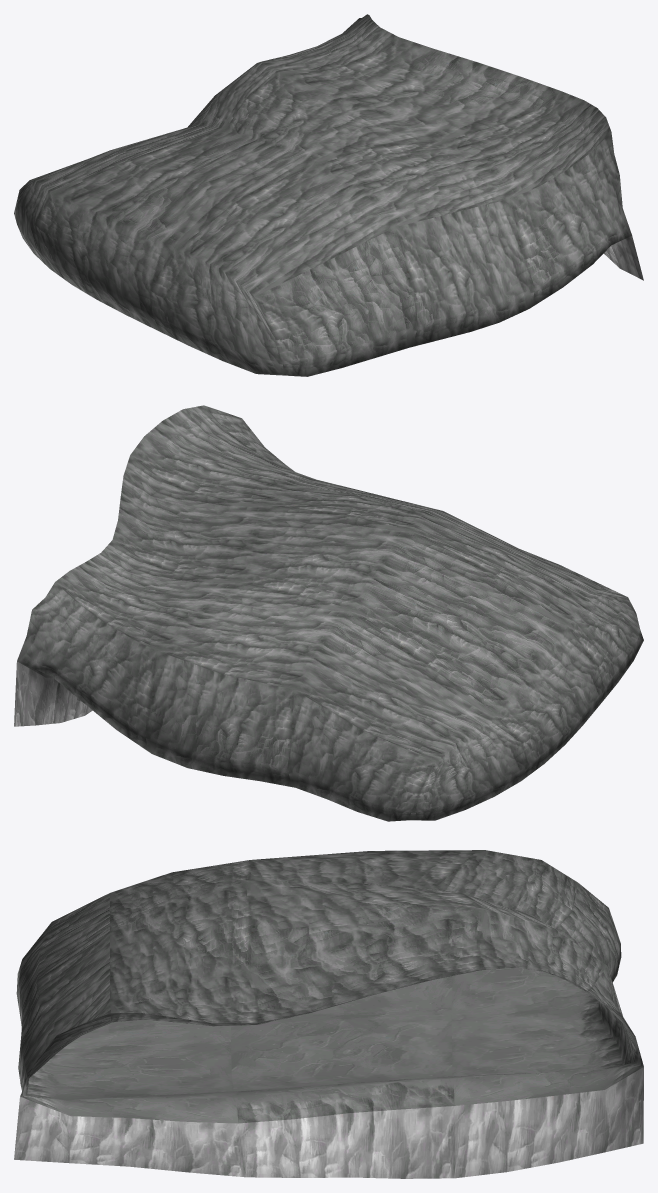
File: SWORDLIGHT20_PS-AREA03_13.fbx
The picture shows the model from 3 angles, top to bottom: view 1: azimuth 30°, elevation 25°; view 2: azimuth 150°, elevation 25°; view 3: azimuth 270°, elevation 25°; orthographic projection. The views are drawn at different scales.
Visible parts, largest first — view 1: SWORDLIGHT20_PS-AREA03_13; view 2: SWORDLIGHT20_PS-AREA03_13; view 3: SWORDLIGHT20_PS-AREA03_13.
Part boxes in pixels (box(x1,y1,x2,y2)): SWORDLIGHT20_PS-AREA03_13: box(14, 14, 643, 376); SWORDLIGHT20_PS-AREA03_13: box(14, 405, 643, 821); SWORDLIGHT20_PS-AREA03_13: box(14, 850, 643, 1178).
Size of the model in its own units: 201451 by 68813 by 197057.
6 materials, 6 textured.
